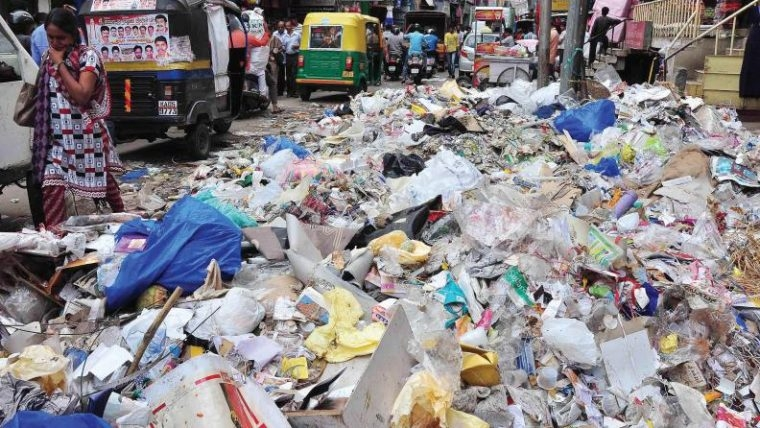kitchen_waste: (134, 277, 175, 318)
paper: (140, 348, 299, 428), (595, 326, 670, 404), (533, 308, 603, 376), (70, 339, 139, 388)
plastic: (98, 188, 256, 327), (381, 144, 496, 217), (305, 285, 398, 366), (388, 374, 498, 428), (3, 343, 79, 403), (203, 323, 287, 376), (365, 229, 449, 272), (556, 96, 619, 144), (606, 272, 662, 324), (258, 145, 304, 185), (500, 364, 531, 389), (534, 363, 560, 392)
